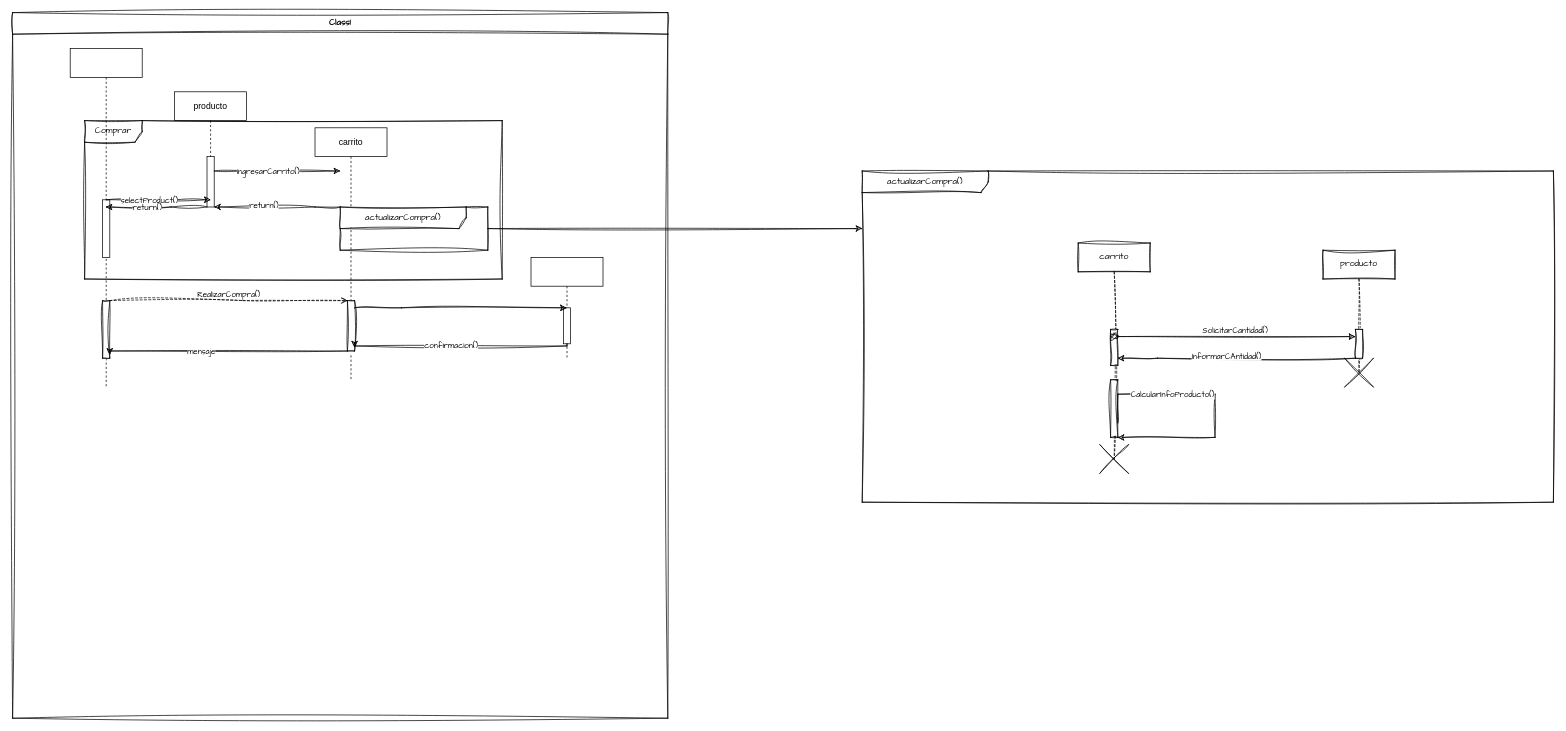
Some shapes in this 1566 by 731 pixel diagram are drawn without their labels. The box of each missing label's shape, as (x1, y1, x2, y2) in pixels:
user: (69, 48, 142, 387)
whatsapp: (530, 257, 603, 358)
